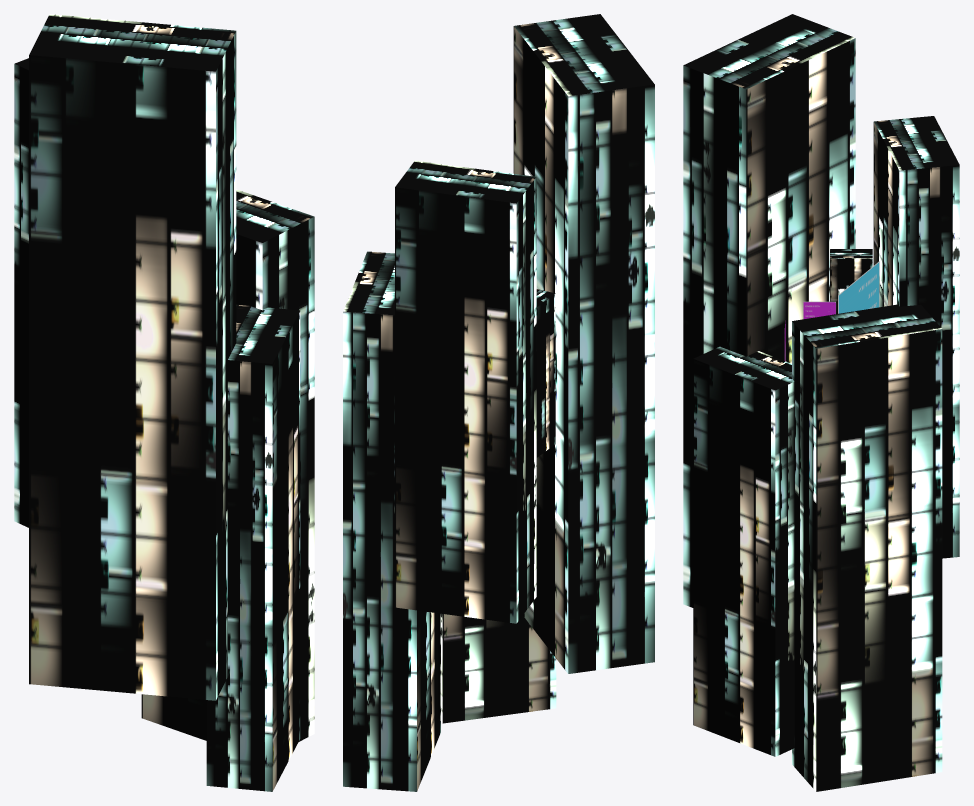
The picture shows the model from 3 angles, left to right: view 1: azimuth 30°, elevation 25°; view 2: azimuth 150°, elevation 25°; view 3: azimuth 270°, elevation 25°; orthographic projection. The views are drawn at different scales.
Visible parts, largest first — view 1: Cube.001, Cube.002, Cube.004, Cube.003; view 2: Cube.001, Cube.003, Cube.004, Cube.002, Cube; view 3: Cube.004, Cube.001, Cube.002, Cube.003, Cube, ad 2, ad.
Part boxes in pixels (x1,y1,x2,y2): Cube.001: (29,14,236,700); Cube.002: (206,304,300,791); Cube.004: (141,189,314,741); Cube.003: (14,58,28,527); Cube.001: (513,14,654,673); Cube.003: (395,160,536,623); Cube.004: (343,251,440,791); Cube.002: (438,613,556,723); Cube: (536,289,555,457); Cube.004: (792,304,942,791); Cube.001: (683,14,855,607); Cube.002: (693,346,794,756); Cube.003: (873,116,959,558); Cube: (830,249,872,313); ad 2: (838,261,879,313); ad: (803,301,835,319).
Bounding box in the file's own units: 5376 × 13078 × 5021.
